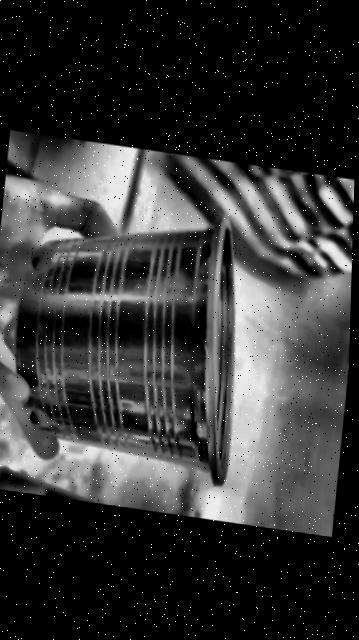pot: (13, 217, 231, 483)
